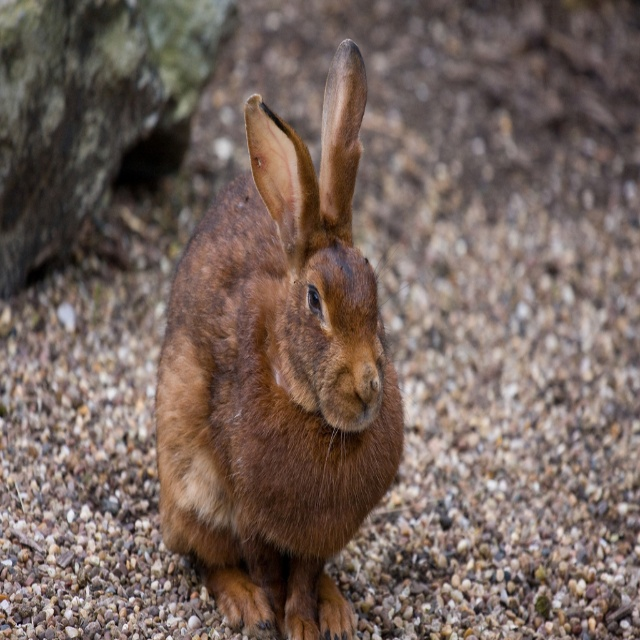Rabbit: (153, 37, 409, 639)
